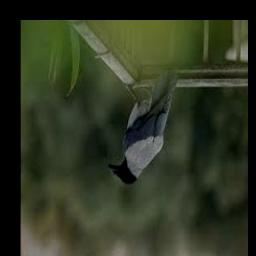Crow: (108, 72, 179, 186)
